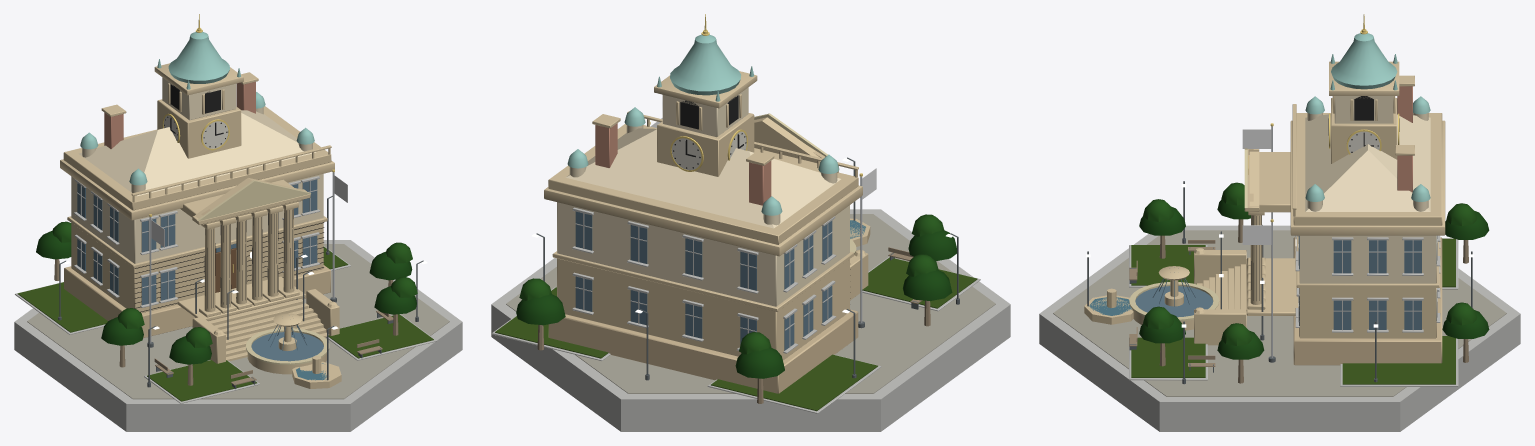
The model's file is cityHall_arab.glb.
3 views of the same model, side by side, from view 1: azimuth 30°, elevation 25°; view 2: azimuth 150°, elevation 25°; view 3: azimuth 270°, elevation 25° (orthographic). The views are drawn at different scales.
Visible parts, largest first — view 1: stone, wall_concrete, plaster, pavers, turf, leaf, glass, dark, copper, wood, steel_dark, brick (+3 smaller); view 2: stone, wall_concrete, plaster, pavers, leaf, turf, glass, copper, brick, paint, steel_dark, dark (+1 smaller); view 3: stone, wall_concrete, pavers, plaster, turf, leaf, glass, copper, wood, banner, steel_dark, brick (+2 smaller).
Part boxes in pixels (x1=…): stone: x1=60, y1=63, x2=341, y2=388; wall_concrete: x1=14, y1=176, x2=462, y2=431; plaster: x1=71, y1=77, x2=323, y2=263; pavers: x1=27, y1=244, x2=449, y2=399; turf: x1=17, y1=246, x2=433, y2=401; leaf: x1=36, y1=221, x2=417, y2=364; glass: x1=77, y1=179, x2=326, y2=380; dark: x1=134, y1=84, x2=324, y2=312; copper: x1=80, y1=32, x2=314, y2=185; wood: x1=54, y1=248, x2=398, y2=385; steel_dark: x1=58, y1=196, x2=423, y2=389; brick: x1=104, y1=81, x2=255, y2=148; stone: x1=544, y1=71, x2=870, y2=393; wall_concrete: x1=491, y1=207, x2=1010, y2=431; plaster: x1=557, y1=87, x2=849, y2=306; pavers: x1=506, y1=214, x2=995, y2=393; leaf: x1=516, y1=214, x2=956, y2=378; turf: x1=495, y1=257, x2=977, y2=411; glass: x1=575, y1=211, x2=865, y2=350; copper: x1=567, y1=34, x2=839, y2=215; brick: x1=595, y1=123, x2=771, y2=205; paint: x1=671, y1=131, x2=746, y2=170; steel_dark: x1=536, y1=157, x2=959, y2=380; dark: x1=673, y1=95, x2=850, y2=298; stone: x1=1084, y1=61, x2=1445, y2=365; wall_concrete: x1=1039, y1=225, x2=1520, y2=431; pavers: x1=1053, y1=230, x2=1506, y2=396; plaster: x1=1299, y1=96, x2=1436, y2=283; turf: x1=1131, y1=238, x2=1455, y2=384; leaf: x1=1139, y1=182, x2=1489, y2=359; glass: x1=1089, y1=236, x2=1436, y2=329; copper: x1=1305, y1=33, x2=1430, y2=201; wood: x1=1129, y1=219, x2=1468, y2=383; banner: x1=1242, y1=129, x2=1271, y2=244; steel_dark: x1=1087, y1=181, x2=1473, y2=384; brick: x1=1397, y1=86, x2=1412, y2=192.
Size of the model in its own units: 21.3 by 18.6 by 24.6.
